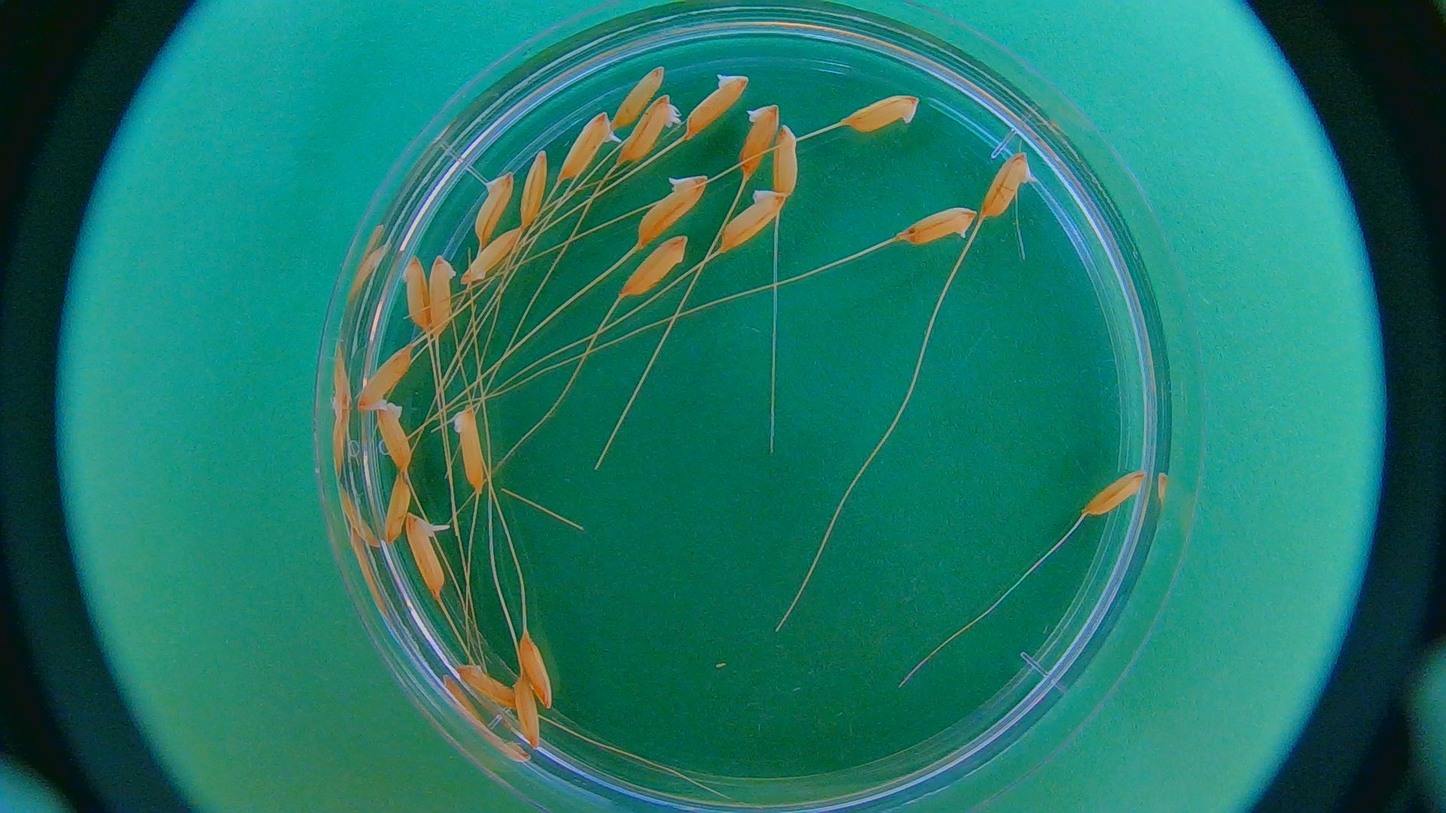no: (664, 75, 756, 145), (609, 233, 691, 306), (706, 184, 786, 252), (355, 347, 420, 411), (610, 62, 669, 131), (734, 99, 785, 178), (1078, 467, 1148, 523), (459, 226, 524, 286), (451, 401, 490, 500), (895, 202, 978, 246), (450, 658, 517, 712), (835, 93, 921, 135), (471, 169, 514, 246), (367, 401, 413, 470), (518, 627, 557, 708), (767, 121, 803, 205), (426, 253, 460, 341), (392, 249, 430, 327), (518, 144, 551, 227), (377, 467, 412, 544), (509, 676, 541, 751)
yes: (636, 178, 712, 245), (975, 152, 1042, 222), (612, 96, 676, 169), (555, 113, 615, 184), (402, 510, 448, 594)
